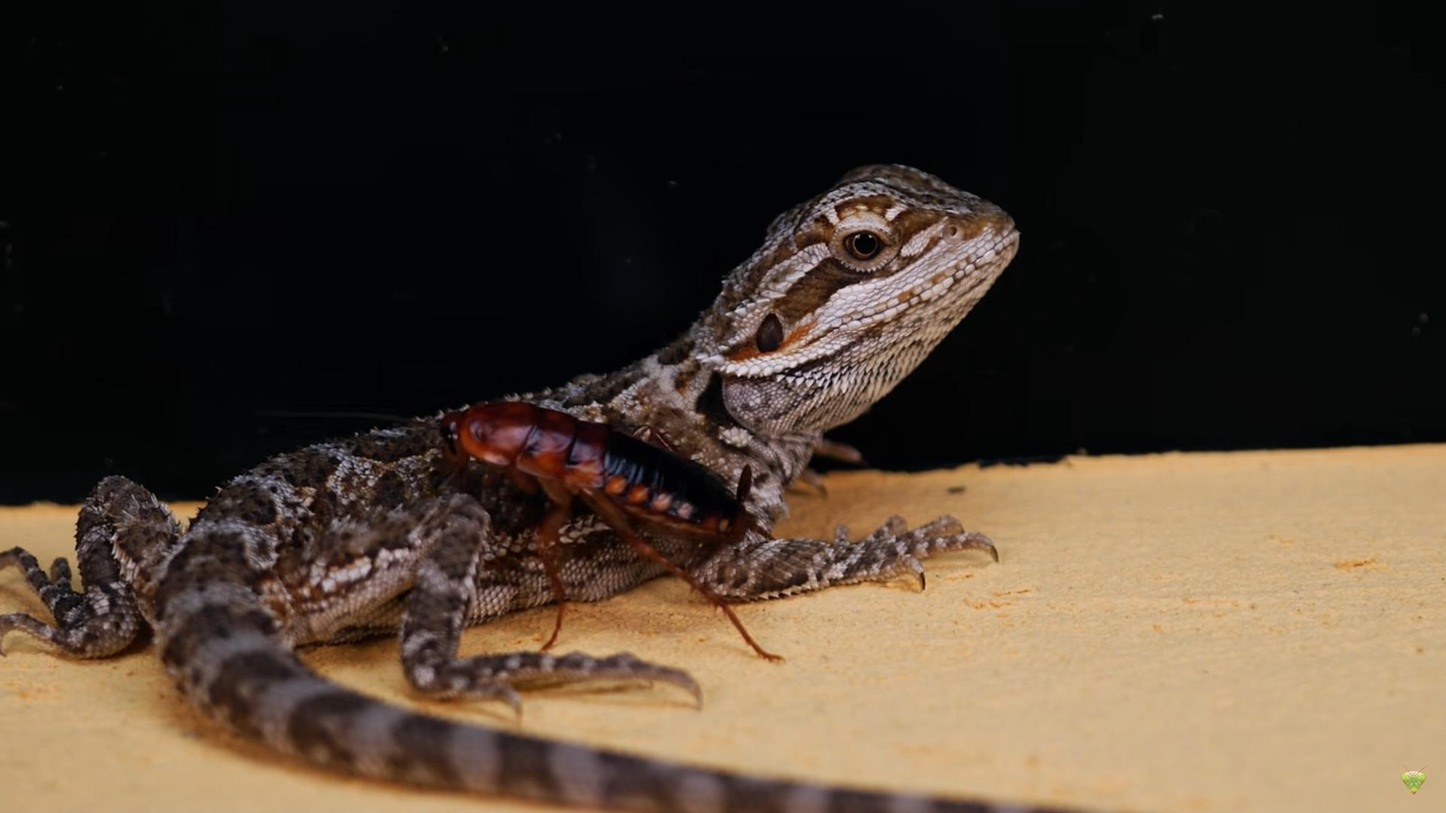cockroach: (420, 392, 764, 638)
lizard: (11, 162, 1031, 811)
